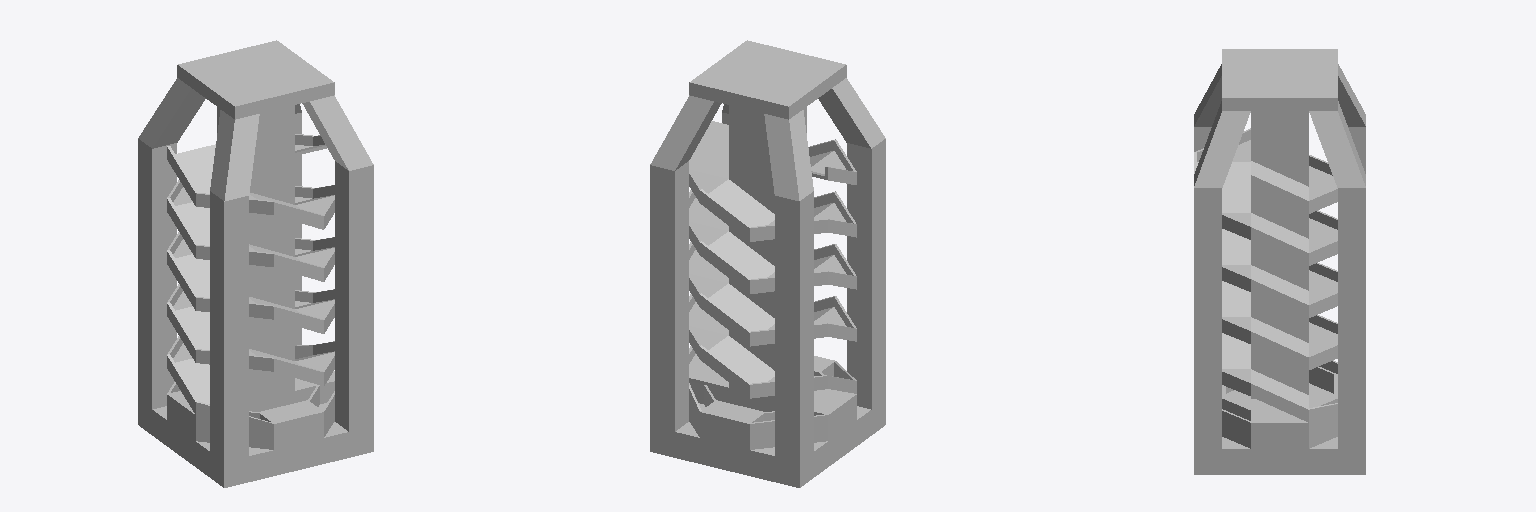
File: gravityseparator.obj
The picture shows the model from 3 angles: view 1: azimuth 30°, elevation 25°; view 2: azimuth 150°, elevation 25°; view 3: azimuth 270°, elevation 25°; orthographic projection.
Parts seen in each view (by area): view 1: Cube.003; view 2: Cube.003; view 3: Cube.003.
Boxes of the visible parts, box(x1,y1,x2,y2) form: Cube.003: box(138, 40, 373, 487); Cube.003: box(650, 40, 885, 487); Cube.003: box(1194, 49, 1365, 474).
Bounding box in the file's own units: 3 × 7 × 3.